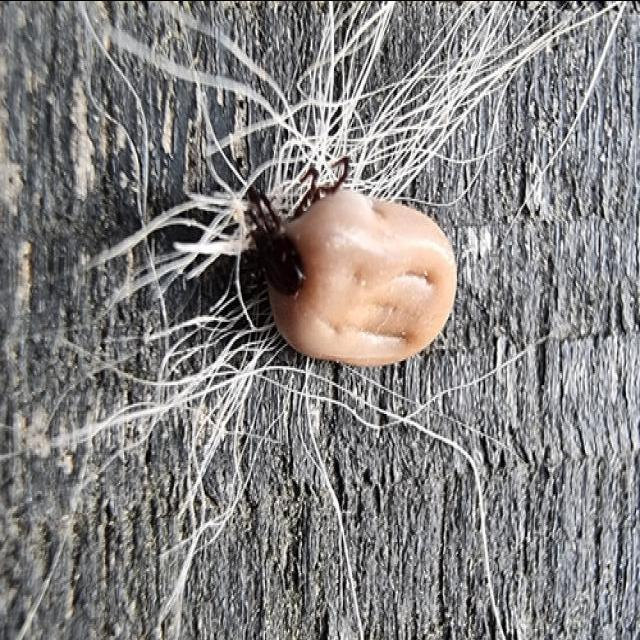Ixodes Ricinus-F-Fed: (247, 157, 456, 367)
